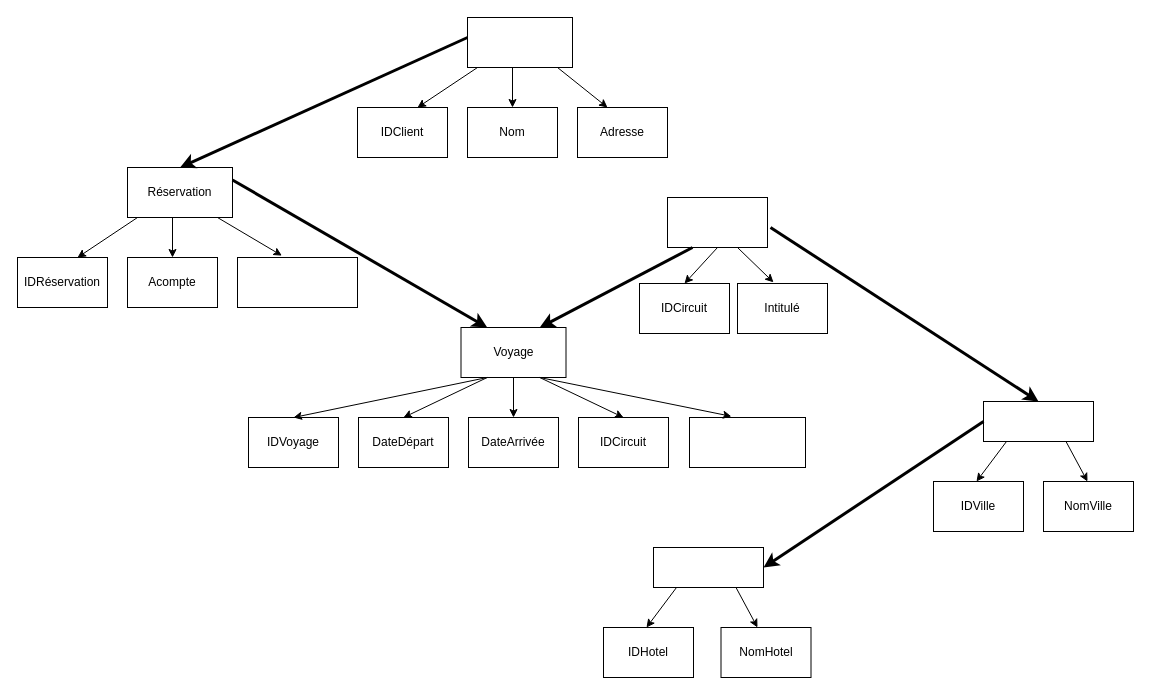
Image size: 1151x695. Some labels were removed from this diagram. Each missing label, with the centre of its shape:
"Circuit" goes at point (717, 222).
"Client" goes at point (519, 42).
"DeuxiemeVersement" goes at point (297, 282).
"Hotel" goes at point (708, 567).
"IDAccompagnateur" goes at point (747, 442).
"Ville" goes at point (1038, 421).
